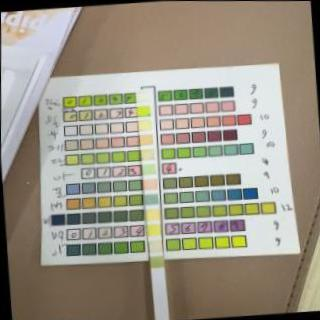mark: (146, 208, 159, 220), (150, 239, 162, 251), (148, 224, 160, 236), (152, 256, 164, 267), (144, 194, 157, 204), (144, 179, 156, 189), (140, 134, 152, 144), (140, 119, 151, 129), (142, 164, 154, 173), (141, 150, 153, 158), (137, 108, 149, 116), (137, 92, 149, 100)
